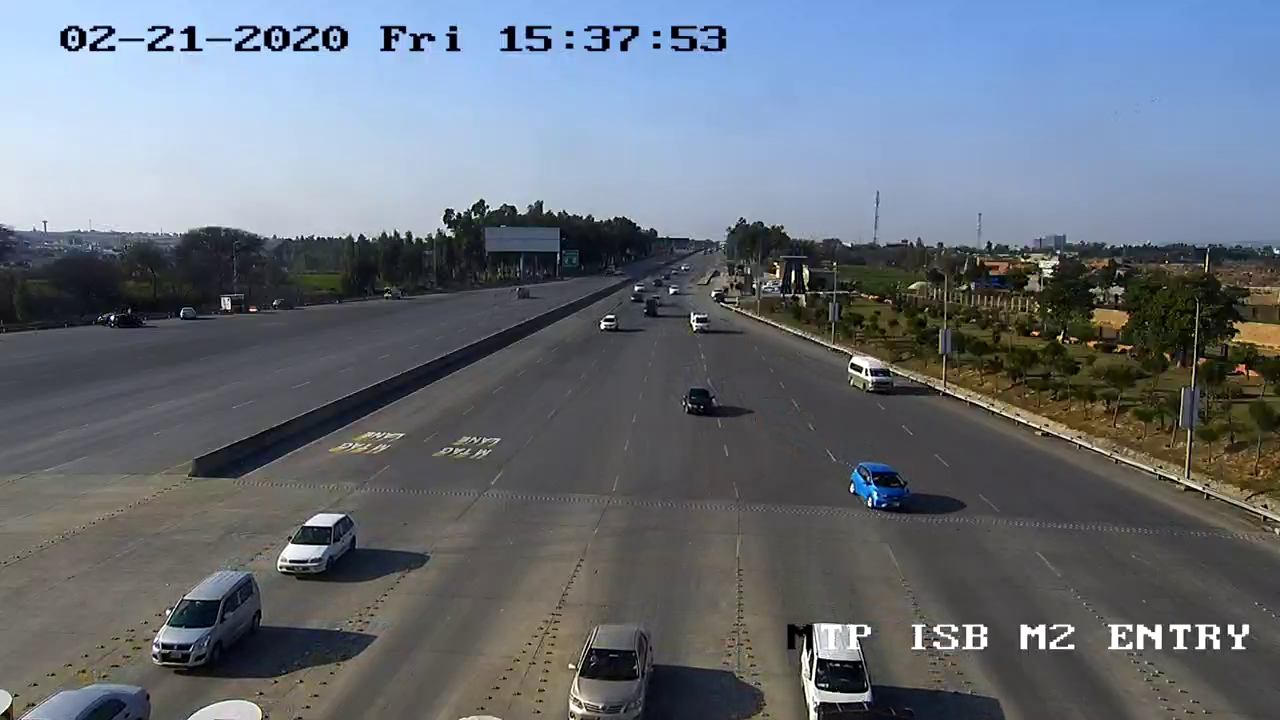f1: (145, 564, 269, 677), (559, 614, 666, 720), (272, 500, 362, 580), (843, 459, 919, 526), (675, 372, 720, 424)
